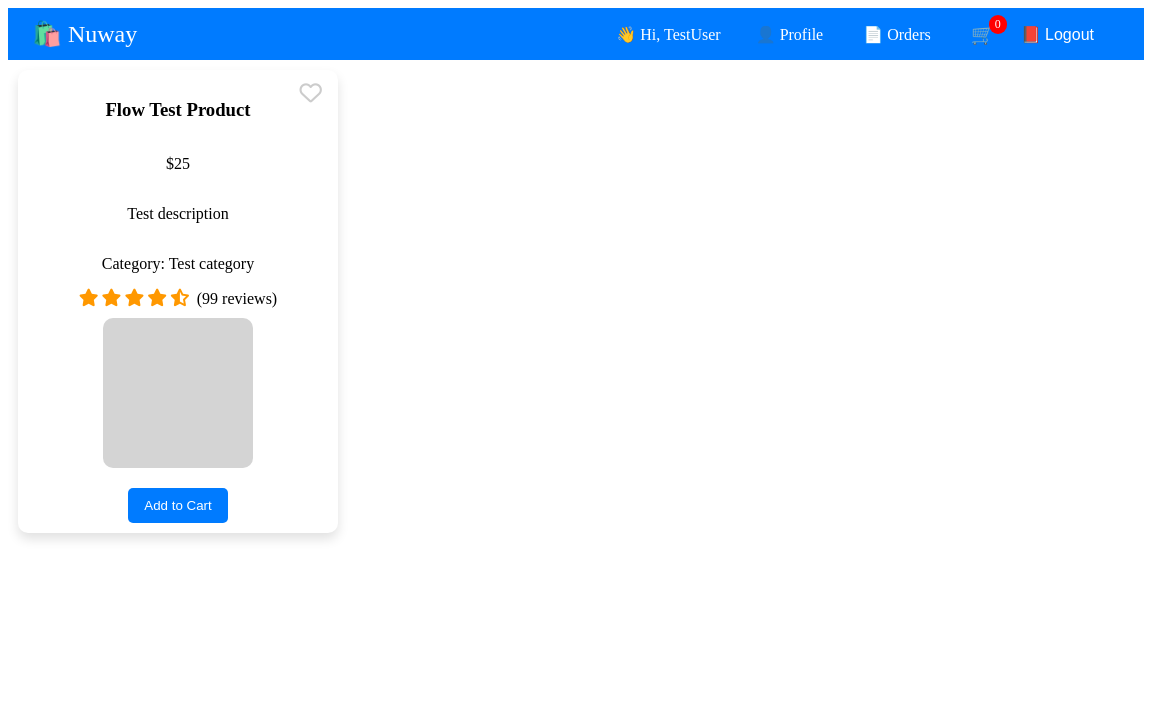
Test: Cart Integration › updates NavBar cart count when adding product
Expected: the text with test id "cart-count" reads "0", x1=995 y1=16 x2=1001 y2=30
// Simulate clicking the "Add to Cart" button
Click the button "Add to Cart" at (178, 506), box x1=128 y1=488 x2=228 y2=523
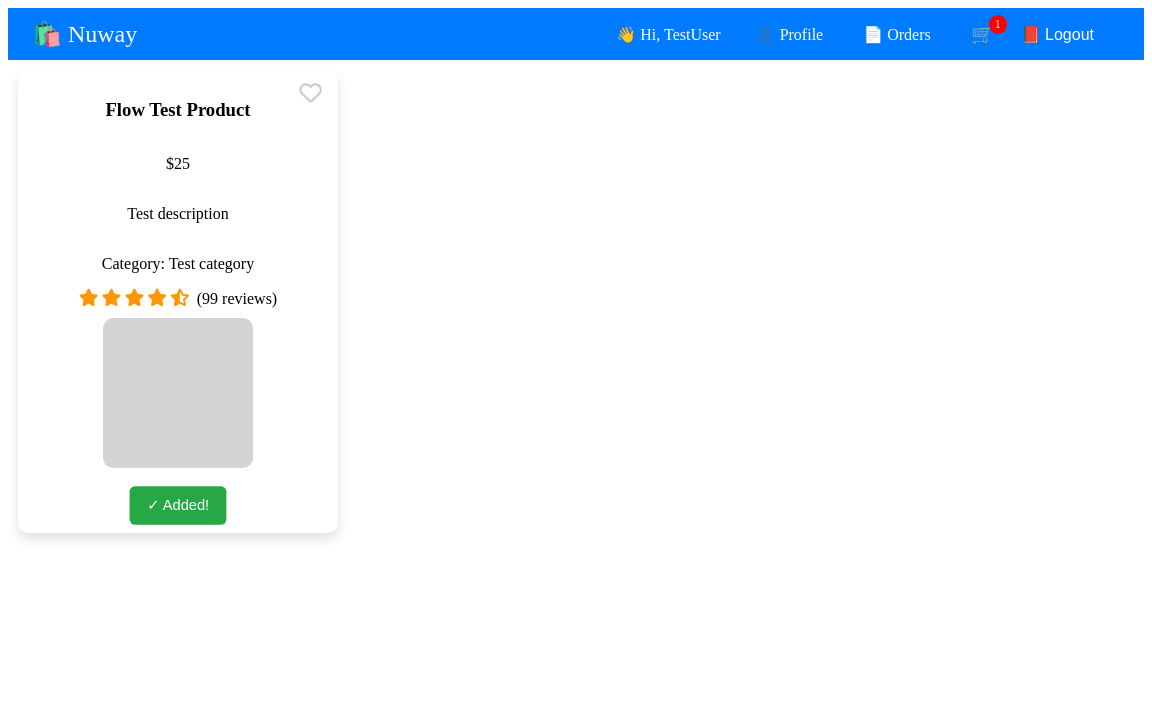
Now the text with test id "cart-count" reads "1", box x1=995 y1=16 x2=1001 y2=30
